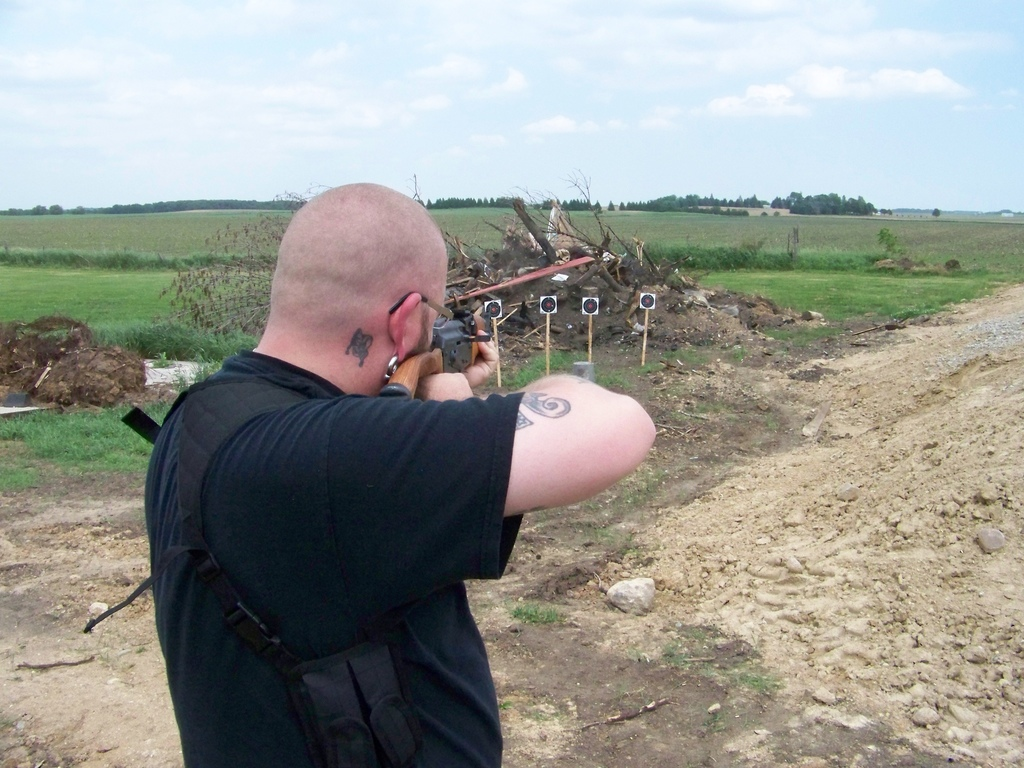Person: (83, 182, 656, 767)
